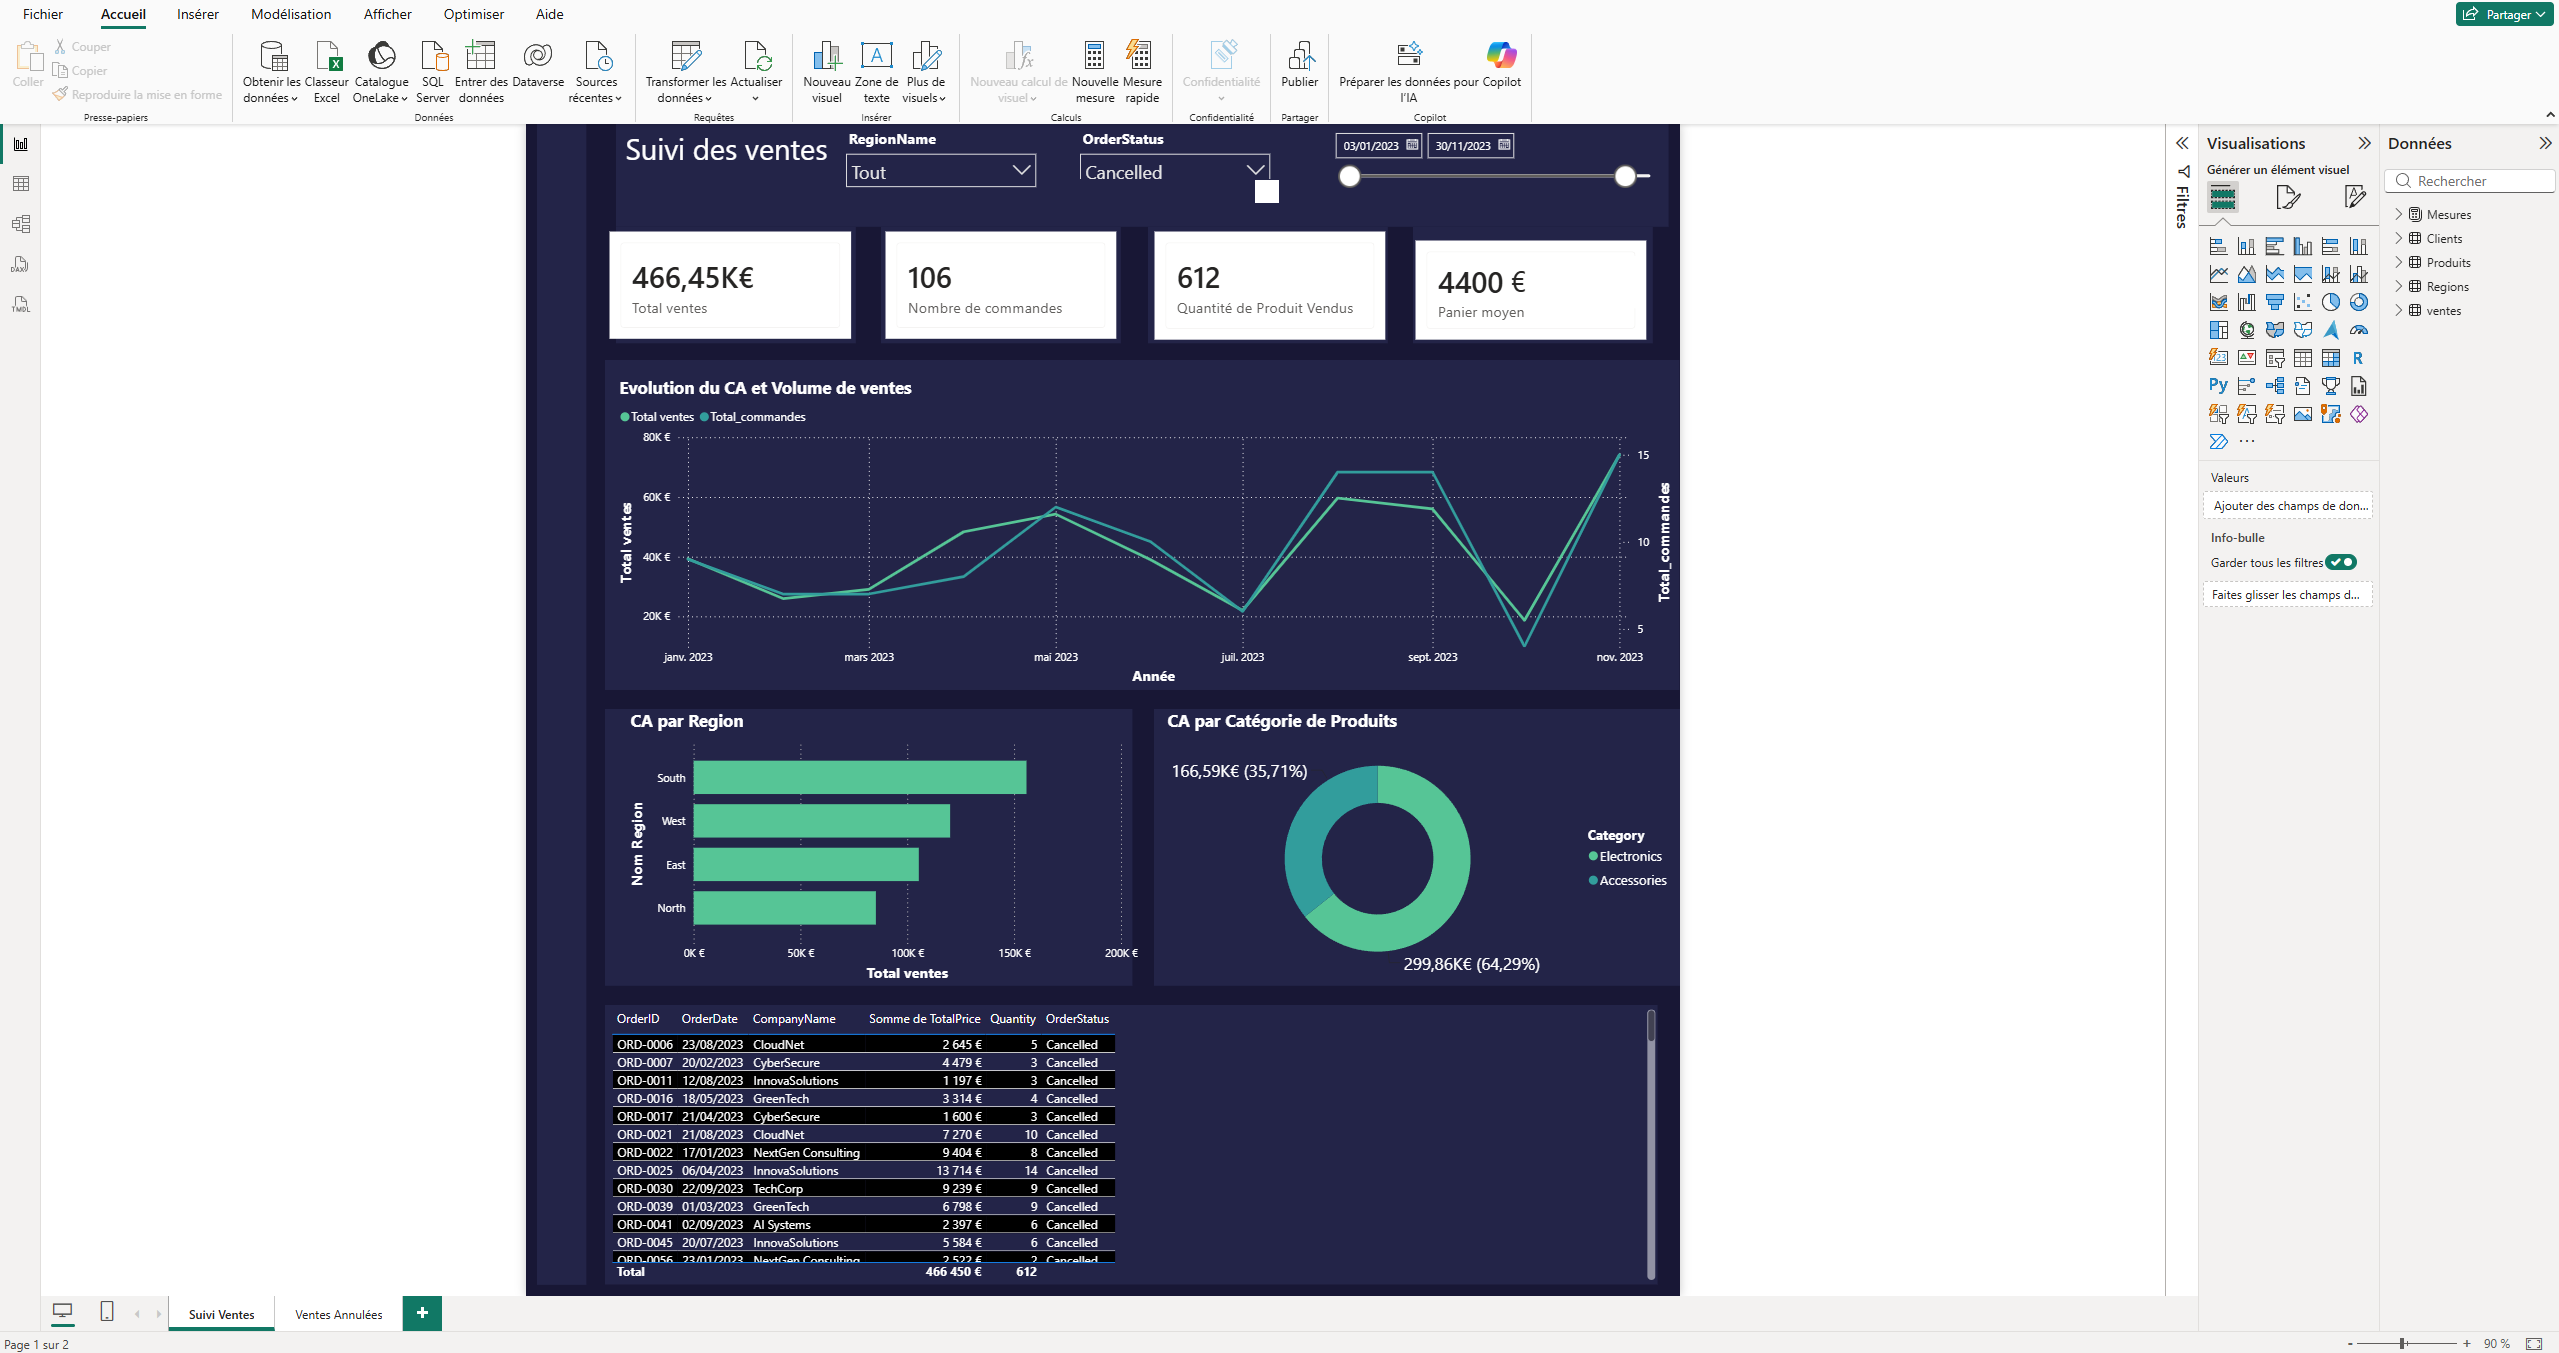

The dashboard page shown, as its layout file describes it:
{"tool":"powerbi","page":{"name":"Ventes Annulées","canvas":[1280,1300],"ordinal":1},"visuals":[{"type":"shape","box":[12.2,0,54.7,1287.6],"z":0},{"type":"shape","box":[100.3,0,1167.5,114],"z":1000},{"type":"shape","box":[100.3,114,266,129.2],"z":2000},{"type":"shape","box":[88.2,261.5,1191.8,366.4],"z":3000},{"type":"shape","box":[88.2,649.1,585.3,307.1],"z":4000},{"type":"shape","box":[696.2,649.1,583.8,307.1],"z":5000},{"type":"shape","box":[88.2,977.5,1167.5,310.1],"z":6000},{"type":"textbox","box":[104.9,0,500.1,89.7],"z":7000},{"type":"shape","box":[472.8,120.1,287.3,129.2],"z":8000},{"type":"shape","box":[822.3,119.6,265.9,129.1],"z":9000},{"type":"cardVisual","fields":{"Data":["Mesures.Montant Commandes Annulées"]},"box":[468.2,120.1,276.7,129.2],"z":10000},{"type":"cardVisual","fields":{"Data":["Mesures.total commandes annulées"]},"box":[98.8,120.1,266,129.2],"z":11000},{"type":"cardVisual","fields":{"Data":["Mesures.pct_commandes_annulées"]},"box":[822.3,117.7,265.9,131],"z":12000},{"type":"lineChart","title":"Evolution du CA et Volume de ventes","fields":{"Category":["ventes.OrderDate.Variation.Hiérarchie de dates.Année","ventes.OrderDate.Variation.Hiérarchie de dates.Trimestre","ventes.OrderDate.Variation.Hiérarchie de dates.Mois"],"Y":["Mesures.total commandes annulées"],"Y2":["Mesures.pct_commandes_annulées"]},"box":[98.8,269.7,1181.2,347.5],"z":13000},{"type":"slicer","fields":{"Values":["Regions.RegionName"]},"box":[629.4,0,231.1,114],"z":15000},{"type":"slicer","fields":{"Values":["ventes.OrderDate"]},"box":[884.8,0,383.1,114],"z":16000},{"type":"columnChart","fields":{"Category":["Regions.RegionName"],"Y":["Mesures.total commandes annulées"]},"box":[94.3,649.1,577.7,299.5],"z":17000},{"type":"treemap","fields":{"Details":["Produits.ProductName"],"Group":["Produits.Category"],"Values":["Mesures.total commandes annulées"]},"box":[709.9,652.2,545.7,299.5],"z":17001},{"type":"ribbonChart","title":"Evolution du CA et Volume de ventes","fields":{"Category":["ventes.OrderDate.Variation.Hiérarchie de dates.Année","ventes.OrderDate.Variation.Hiérarchie de dates.Trimestre","ventes.OrderDate.Variation.Hiérarchie de dates.Mois"],"Y":["Mesures.total commandes annulées"],"Series":["Produits.ProductName"]},"box":[98.8,977.5,1181.2,322.3],"z":17002}]}

Visuals, with their boxes on the page's 1280x1300 design canvas (x1, y1, x2, y2). These are canvas units, not pixel positions in the 2559x1353 screenshot, which may show the page scaled, cropped or inside an application window:
shape: <region>12, 0, 67, 1288</region>
shape: <region>100, 0, 1268, 114</region>
shape: <region>100, 114, 366, 243</region>
shape: <region>88, 262, 1280, 628</region>
shape: <region>88, 649, 674, 956</region>
shape: <region>696, 649, 1280, 956</region>
shape: <region>88, 978, 1256, 1288</region>
textbox: <region>105, 0, 605, 90</region>
shape: <region>473, 120, 760, 249</region>
shape: <region>822, 120, 1088, 249</region>
cardVisual - Mesures.Montant Commandes Annulées: <region>468, 120, 745, 249</region>
cardVisual - Mesures.total commandes annulées: <region>99, 120, 365, 249</region>
cardVisual - Mesures.pct_commandes_annulées: <region>822, 118, 1088, 249</region>
"Evolution du CA et Volume de ventes" lineChart: <region>99, 270, 1280, 617</region>
slicer - Regions.RegionName: <region>629, 0, 860, 114</region>
slicer - ventes.OrderDate: <region>885, 0, 1268, 114</region>
columnChart - Regions.RegionName x Mesures.total commandes annulées: <region>94, 649, 672, 949</region>
treemap - Produits.ProductName x Produits.Category: <region>710, 652, 1256, 952</region>
"Evolution du CA et Volume de ventes" ribbonChart: <region>99, 978, 1280, 1300</region>
